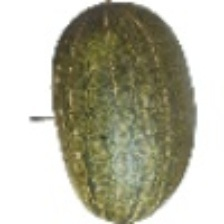honeydew: (43, 0, 223, 198)
